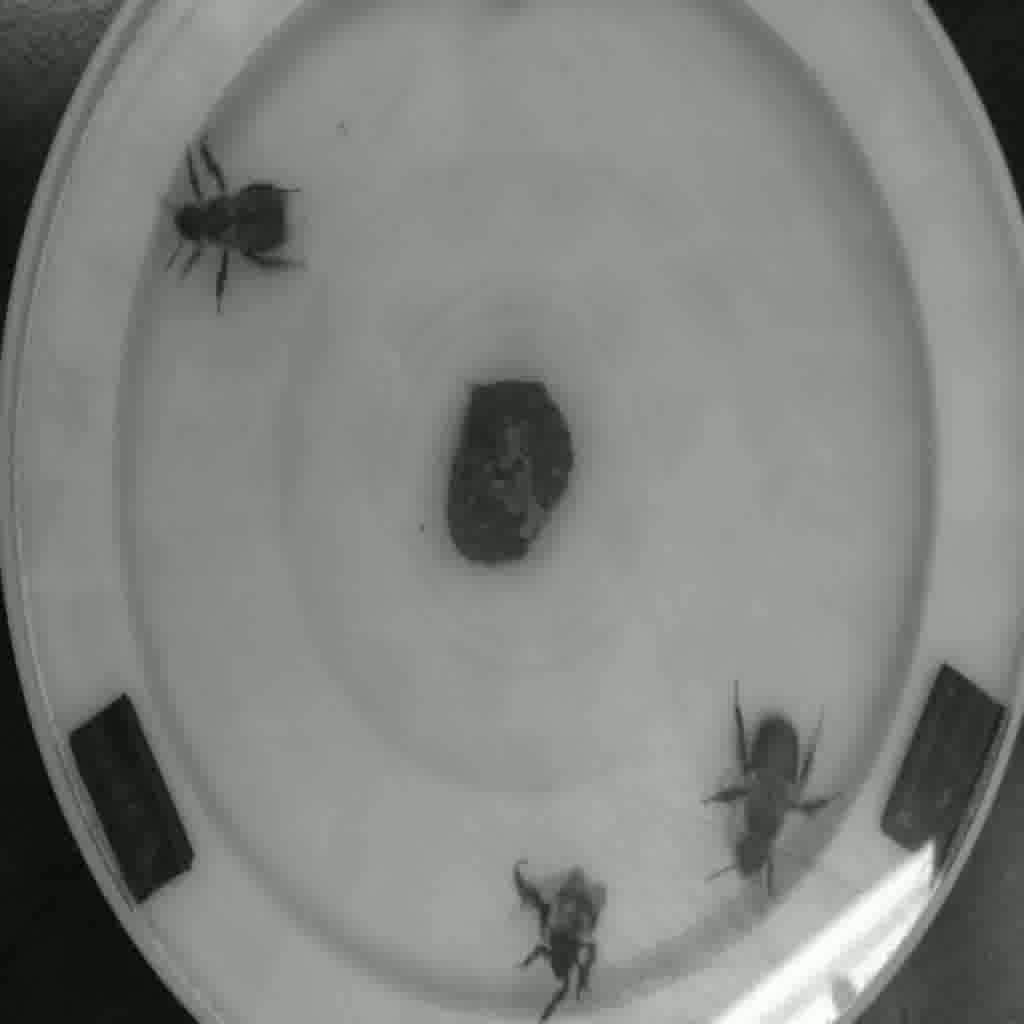bee: (507, 856, 641, 1022), (150, 155, 312, 288), (725, 716, 830, 903)
